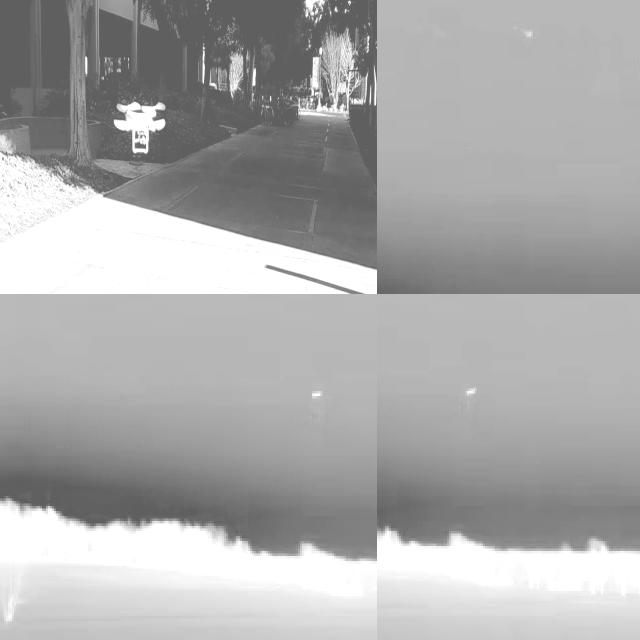0: (522, 25, 542, 48)
1: (450, 374, 492, 420), (297, 379, 337, 421)
drone: (113, 98, 169, 156)
